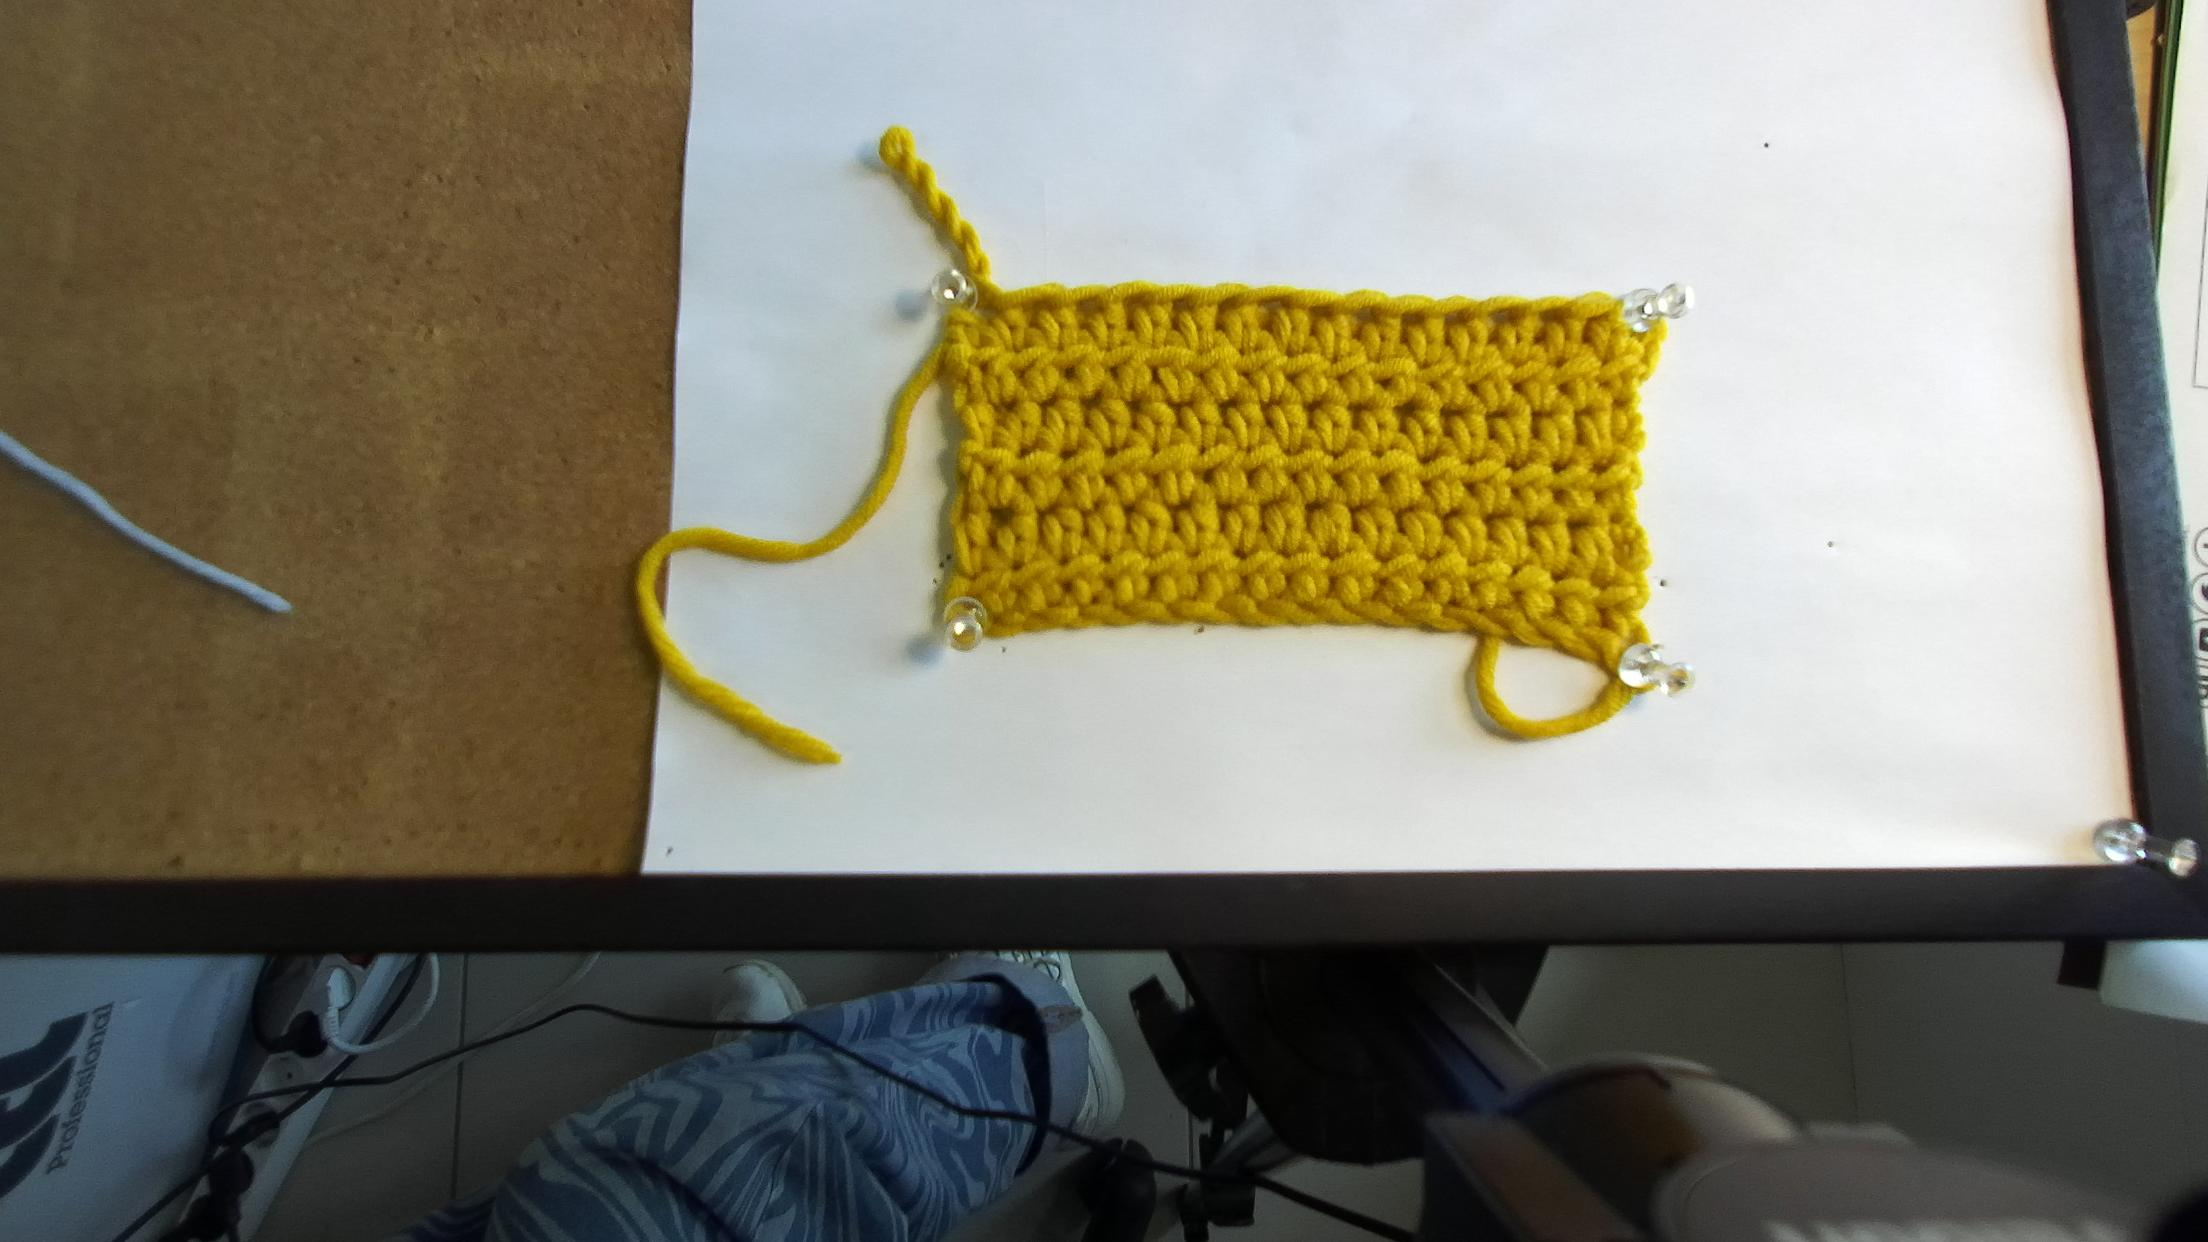hole: (1028, 296, 1053, 320), (1121, 294, 1146, 318), (1488, 308, 1517, 327), (1076, 298, 1102, 319), (974, 301, 999, 322), (1536, 307, 1566, 324), (1258, 297, 1286, 315), (1585, 309, 1611, 326), (1443, 309, 1465, 328), (1399, 310, 1423, 327), (1217, 297, 1238, 316), (1352, 306, 1374, 324), (1307, 304, 1331, 319), (1172, 297, 1189, 318)
swatch: (928, 282, 1685, 675)
